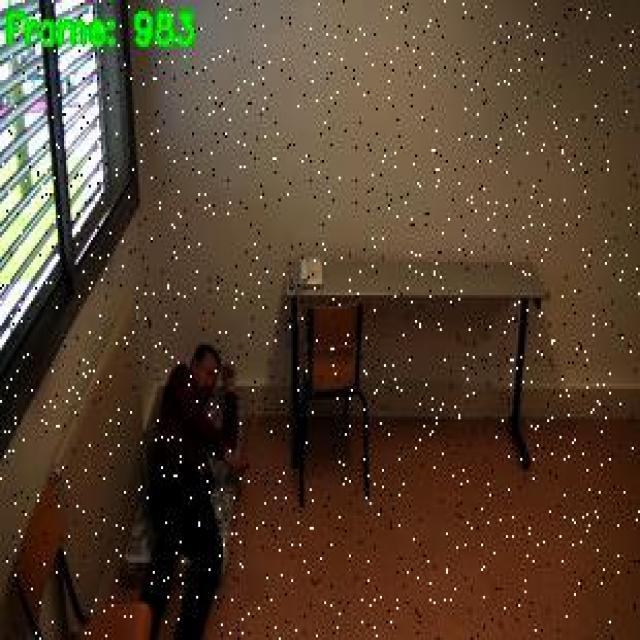fall: (132, 328, 260, 638)
